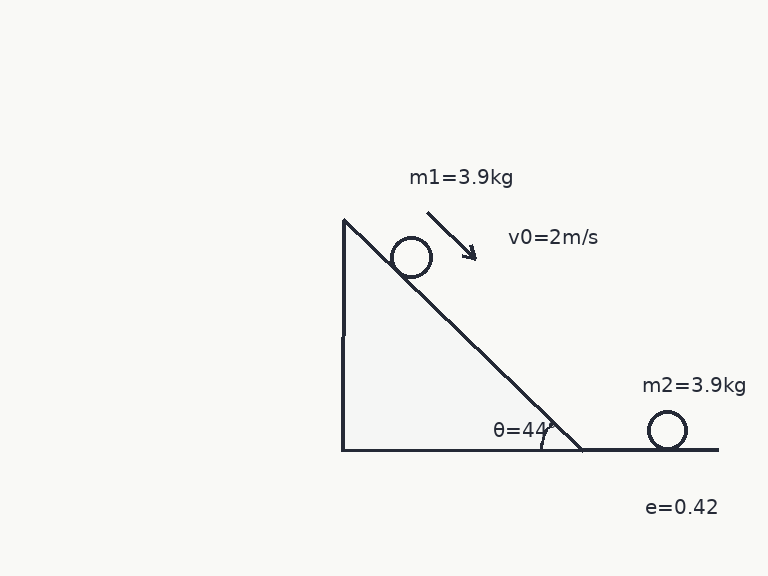ball: (388, 234, 434, 280), (645, 408, 689, 452)
ramp: (341, 218, 583, 452)
